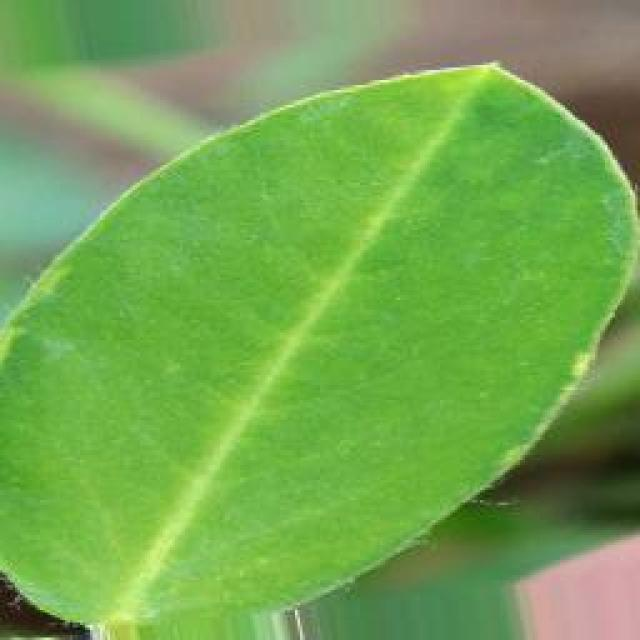Yellow_and_black_sigatoka: (0, 62, 640, 640)
